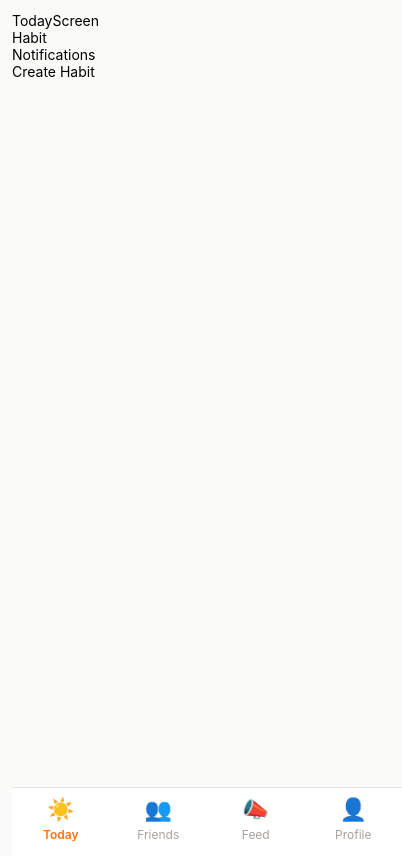
Test case: RootNavigator › switches to Friends tab
Click the tab with test id "tab-friends" at [158, 819], box [137,796,179,842]
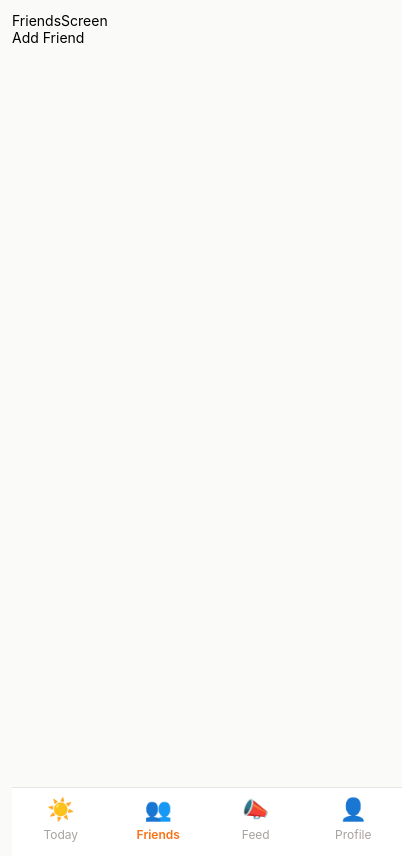
Check: the element with test id "friends-screen" is shown, box [12,12,108,46]
